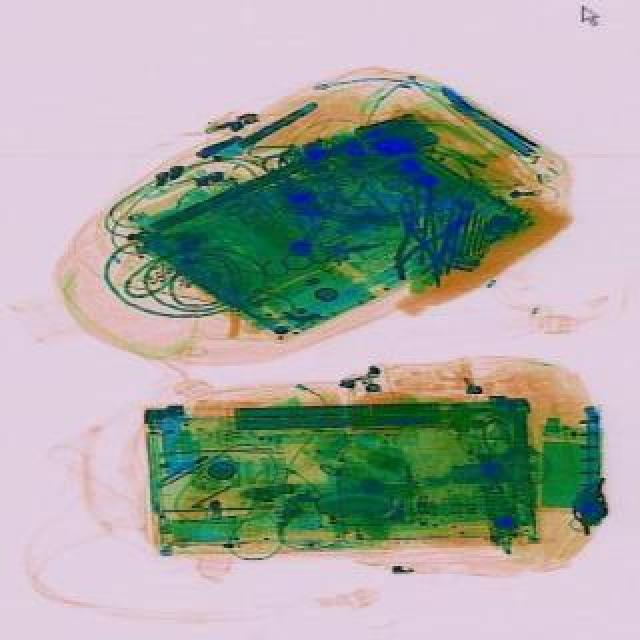wrench: (392, 206, 470, 280), (382, 196, 440, 292)
